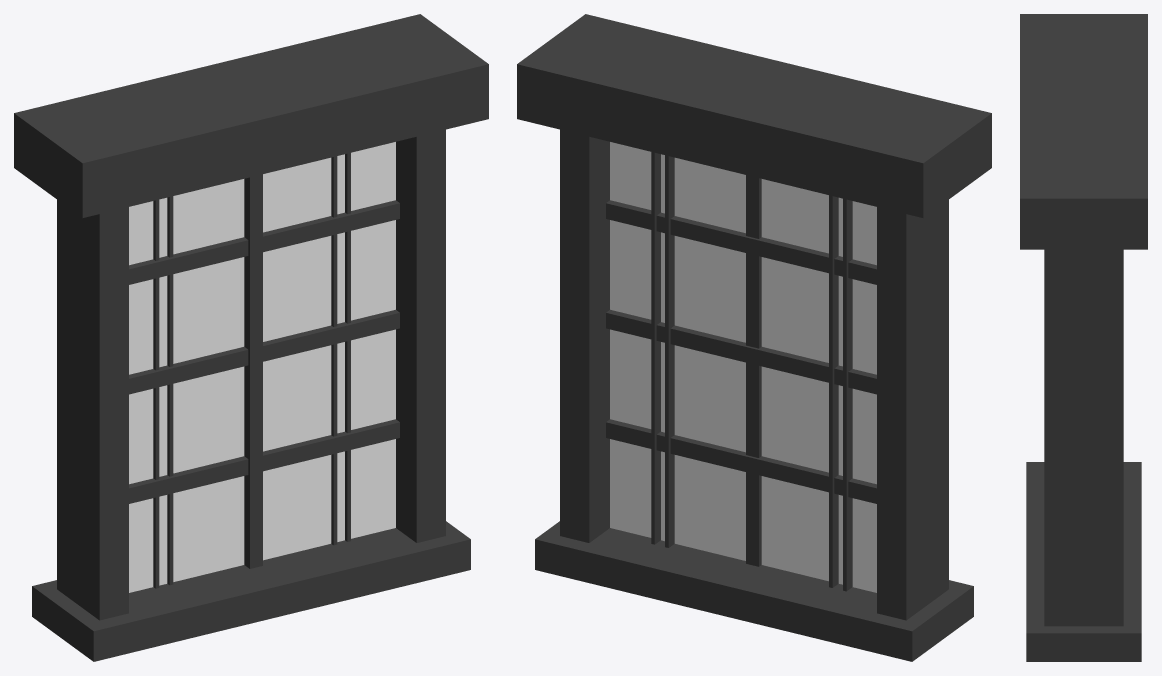
File: window_001.fbx
3 renders of one model, left to right at view 1: azimuth 30°, elevation 25°; view 2: azimuth 150°, elevation 25°; view 3: azimuth 270°, elevation 25°, orthographic. The views are drawn at different scales.
Visible parts, largest first — view 1: window_001; view 2: window_001; view 3: window_001.
Boxes of the visible parts, x1,y1,x2,y2 form: window_001: [14, 14, 488, 661]; window_001: [517, 14, 991, 661]; window_001: [1020, 14, 1147, 661].
Bounding box in the file's own units: 162 × 47.45 × 193.
